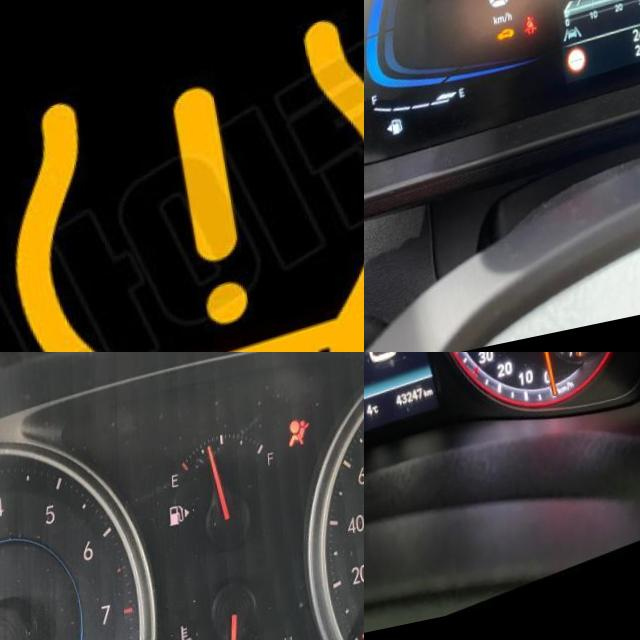LaneCenteringOff: (556, 37, 577, 54)
